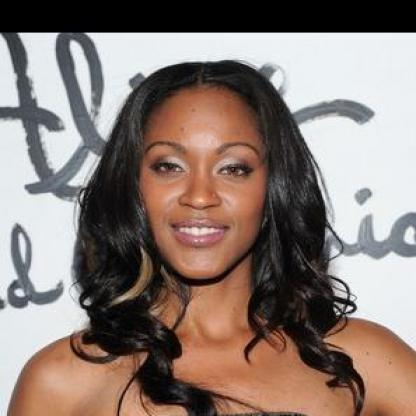long-hair: (53, 279, 380, 351)
